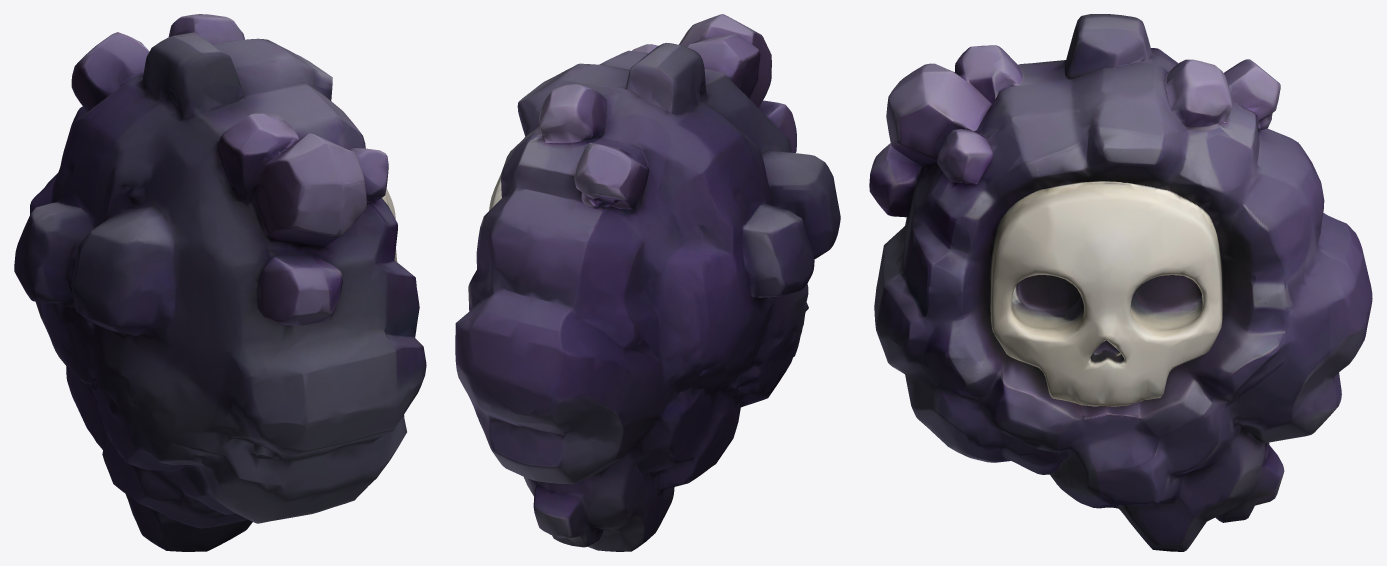
Rendered from 092-block-toy-tripo-v25-standard-15k.glb.
The picture shows the model from 3 angles, left to right: view 1: azimuth 30°, elevation 25°; view 2: azimuth 150°, elevation 25°; view 3: azimuth 270°, elevation 25°; orthographic projection. The views are drawn at different scales.
Visible parts, largest first — view 1: tripo_node_6300ba0a-55c8-4f75-b0ff-64b2e4bf3d90; view 2: tripo_node_6300ba0a-55c8-4f75-b0ff-64b2e4bf3d90; view 3: tripo_node_6300ba0a-55c8-4f75-b0ff-64b2e4bf3d90.
Part boxes in pixels (bbox=[...]): tripo_node_6300ba0a-55c8-4f75-b0ff-64b2e4bf3d90: bbox=[14, 14, 426, 551]; tripo_node_6300ba0a-55c8-4f75-b0ff-64b2e4bf3d90: bbox=[455, 14, 840, 551]; tripo_node_6300ba0a-55c8-4f75-b0ff-64b2e4bf3d90: bbox=[869, 14, 1372, 551].
Size of the model in its own units: 0.6859 by 1 by 0.8995.
Materials: 1 (1 with a texture image).
